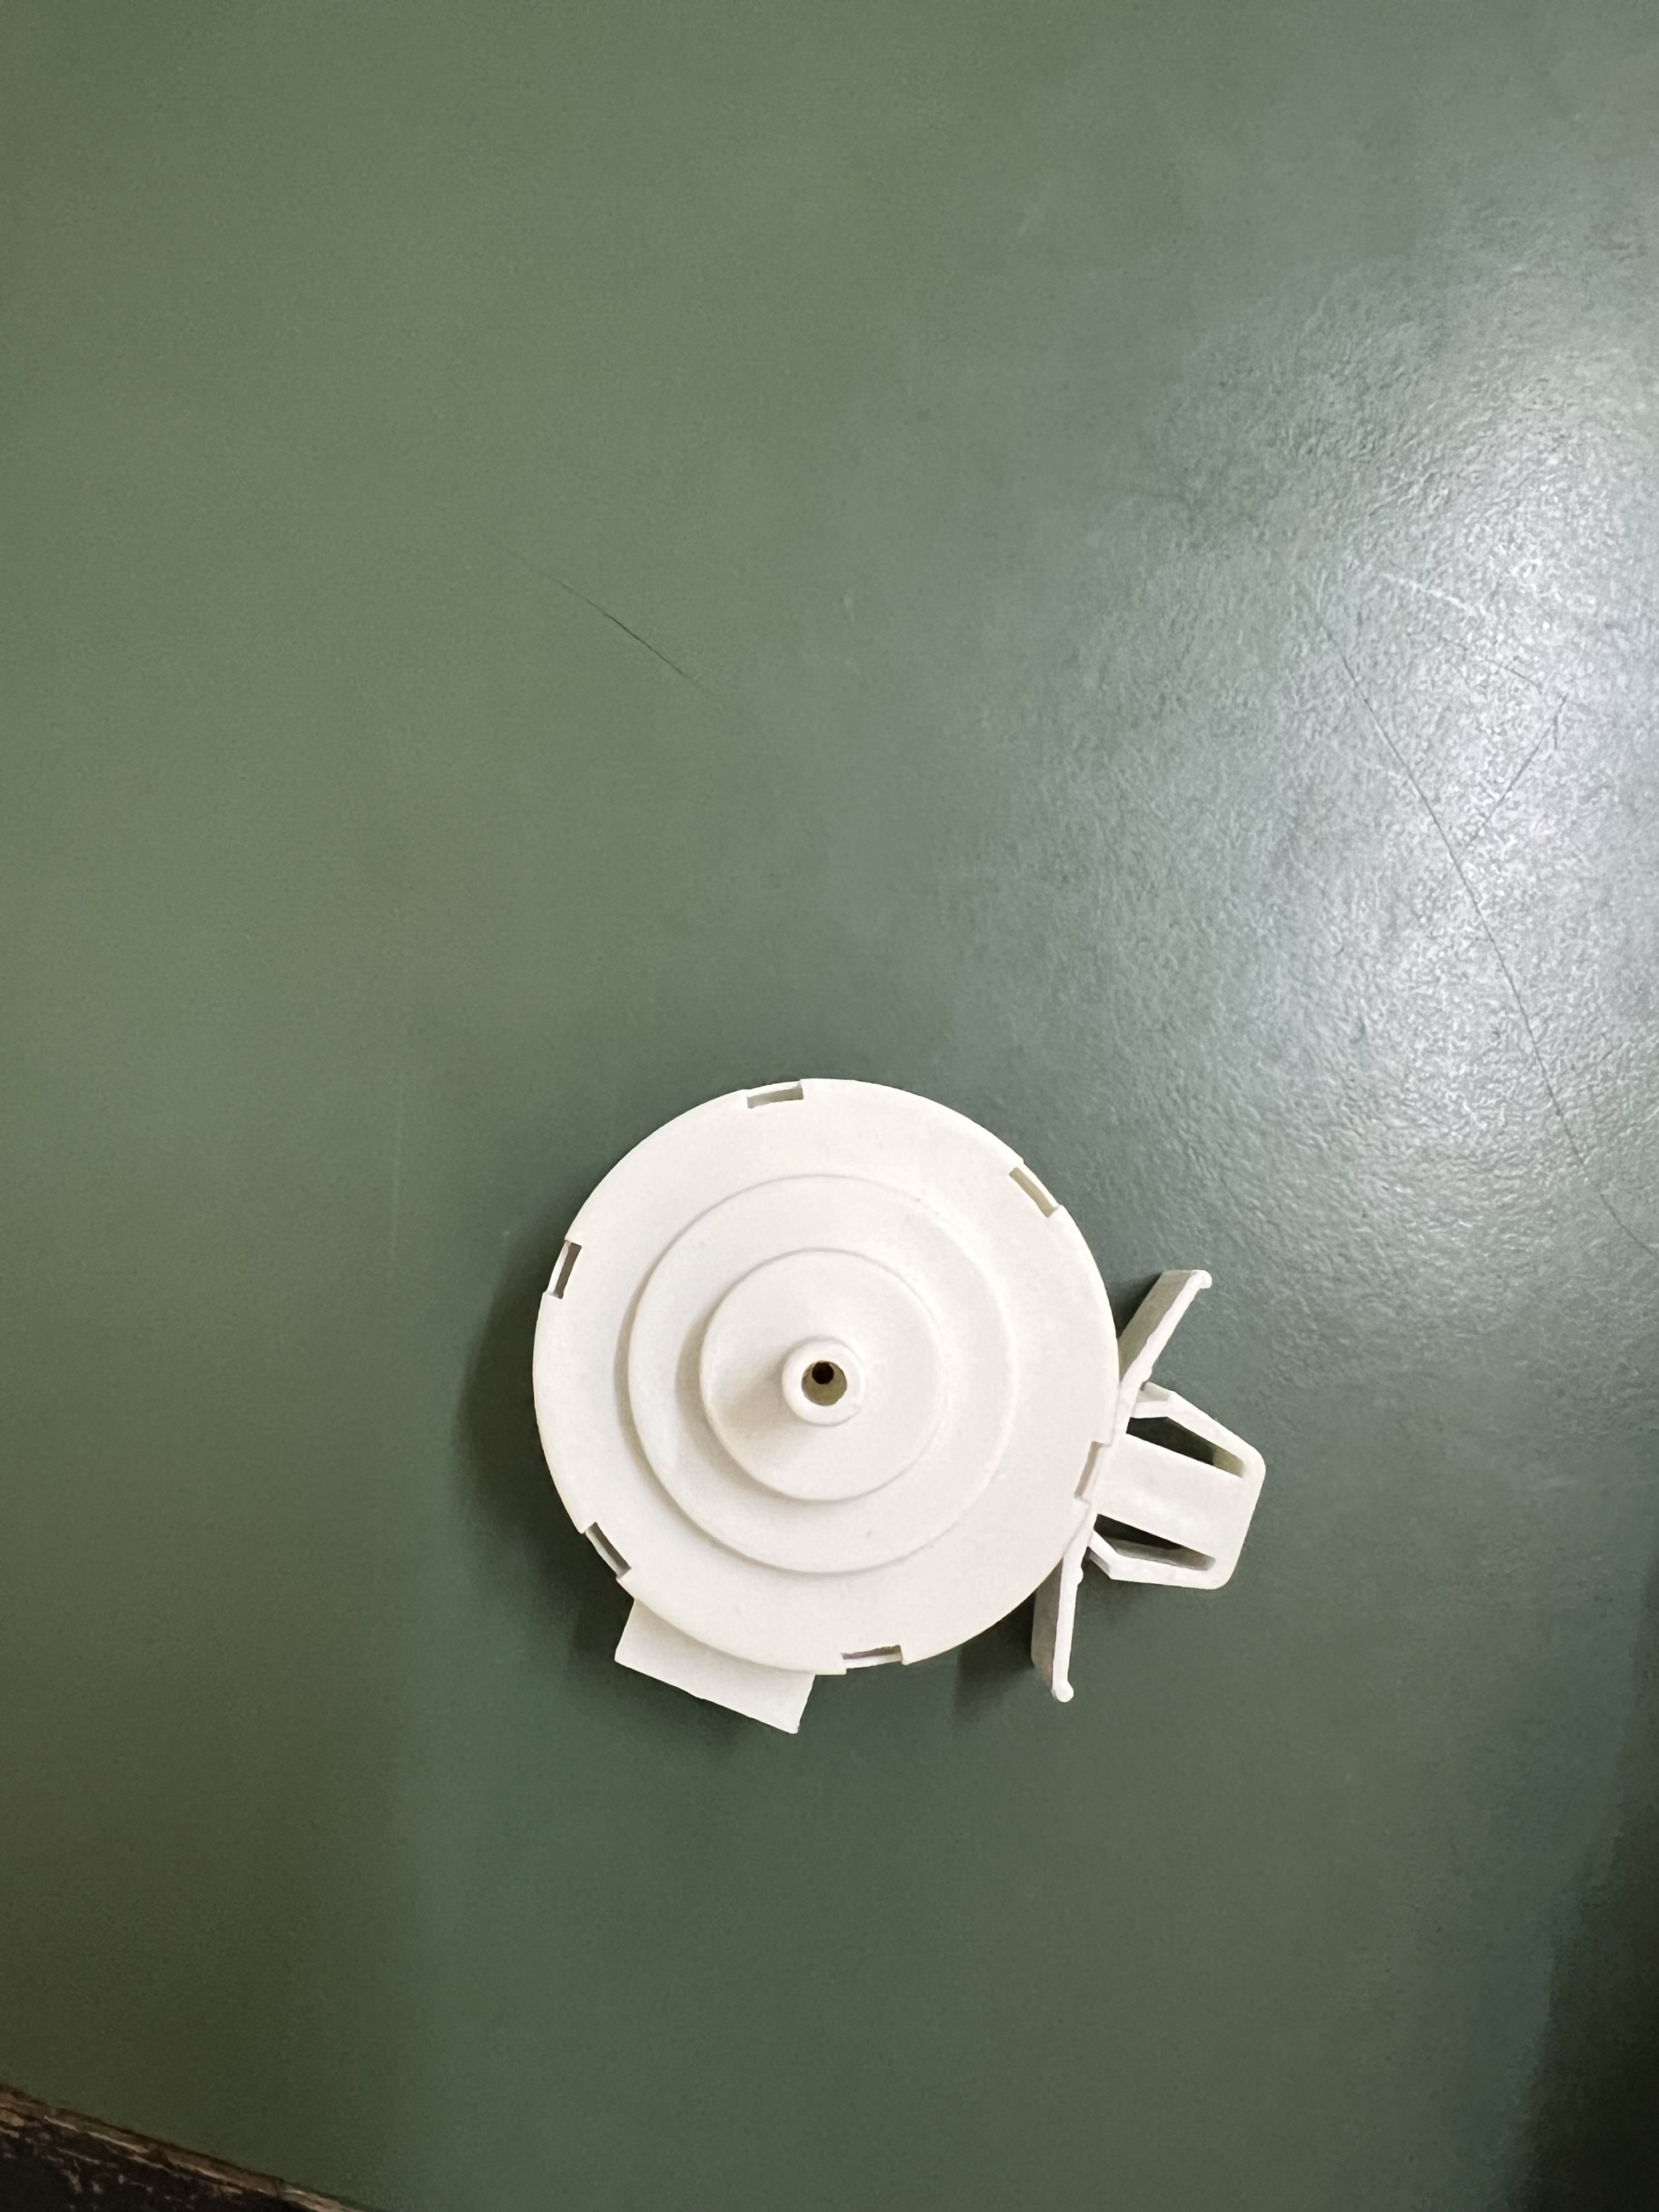pressure_switch_2: (481, 1062, 1288, 1803)
